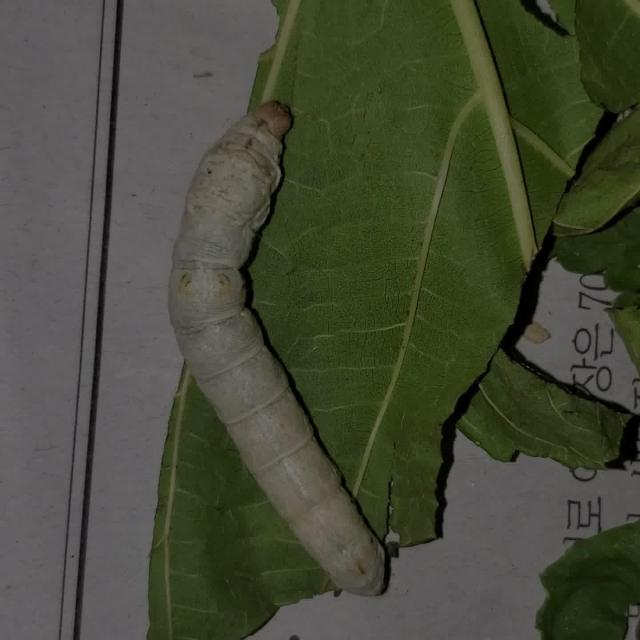Healthy: (159, 90, 407, 610)
